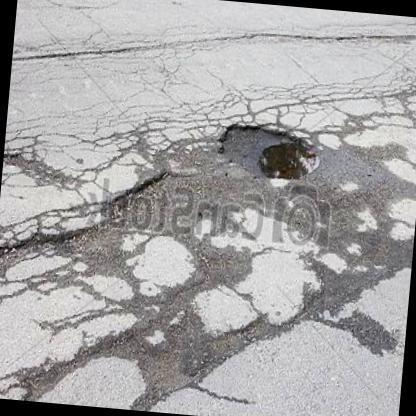pothole: (6, 321, 272, 411), (0, 172, 196, 274), (299, 235, 409, 318), (218, 119, 326, 187)
